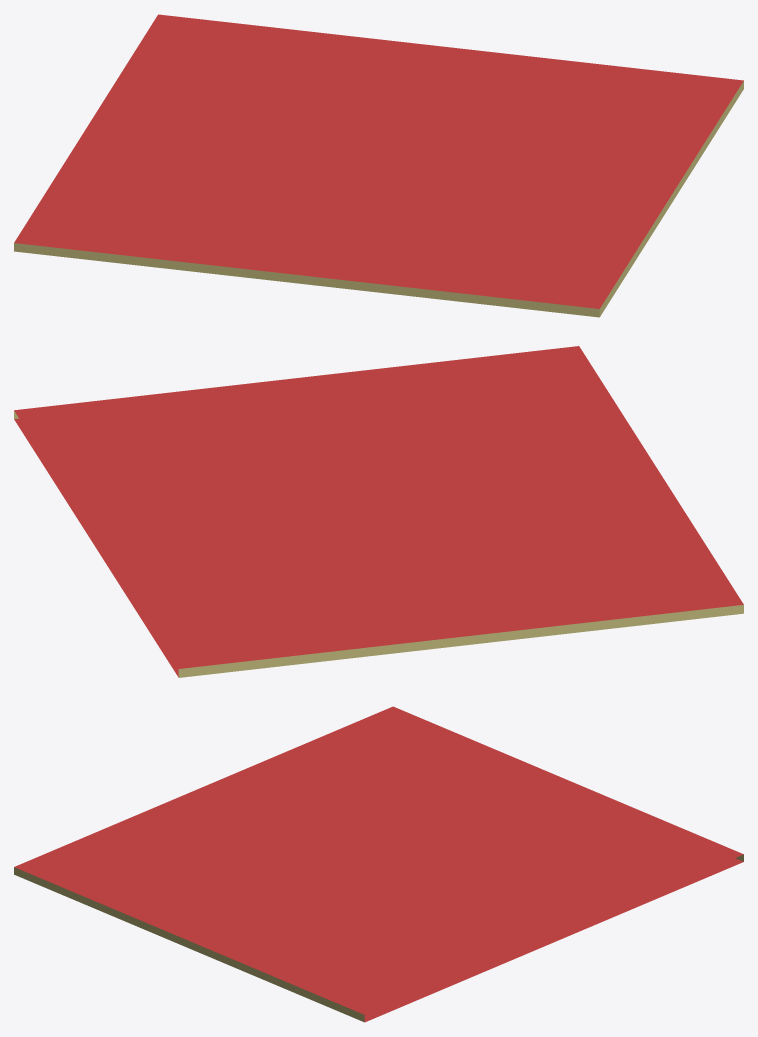
The picture shows the model from 3 angles, top to bottom: view 1: azimuth 30°, elevation 25°; view 2: azimuth 150°, elevation 25°; view 3: azimuth 270°, elevation 25°; orthographic projection. The views are drawn at different scales.
Parts seen in each view (by area): view 1: group_3, group_4; view 2: group_3, group_4, group_5; view 3: group_3, group_5, group_4.
Part boxes in pixels (<box>): group_3: <box>14,14,743,308</box>; group_4: <box>14,81,743,317</box>; group_3: <box>14,346,743,668</box>; group_4: <box>14,411,743,677</box>; group_5: <box>14,418,178,677</box>; group_3: <box>14,706,743,1014</box>; group_5: <box>364,858,743,1022</box>; group_4: <box>14,854,743,1022</box>.
Size of the model in its own units: 8.75 by 8.75 by 0.1.
